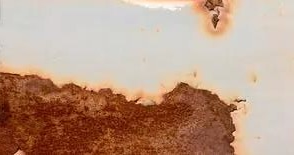Corrosion: (1, 71, 248, 155), (193, 1, 233, 38)
